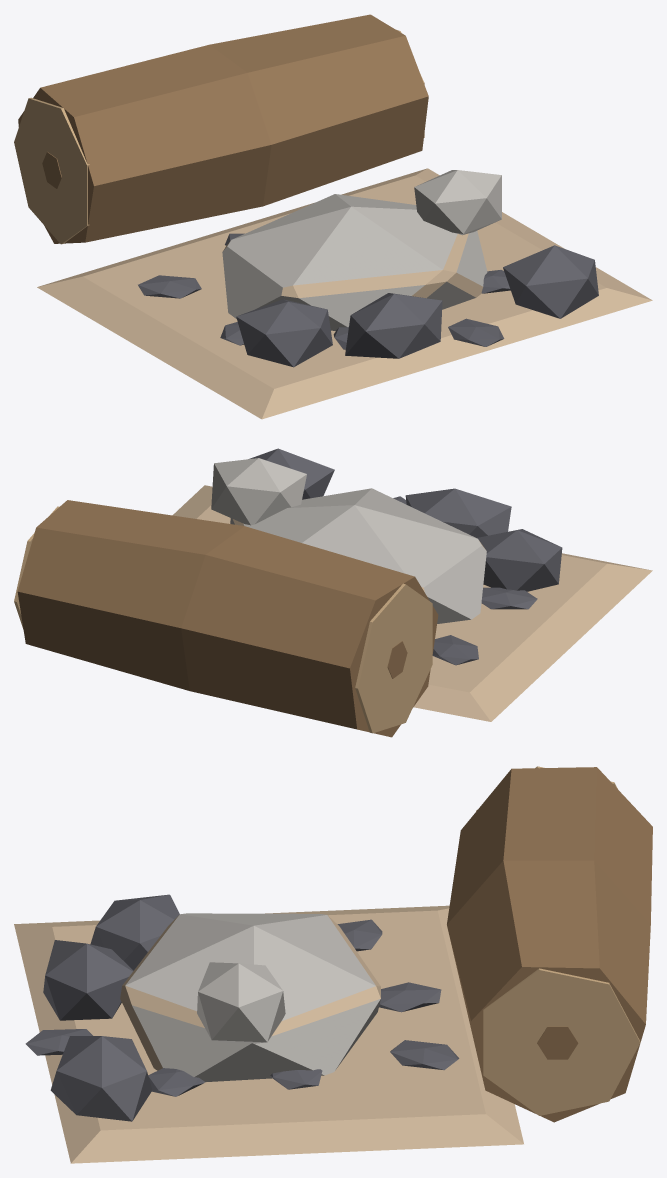
Rendered from knapping_spot.glb.
3 renders of one model, top to bottom at view 1: azimuth 30°, elevation 25°; view 2: azimuth 150°, elevation 25°; view 3: azimuth 270°, elevation 25°, orthographic. The views are drawn at different scales.
Parts seen in each view (by area): view 1: knapping_spot; view 2: knapping_spot; view 3: knapping_spot.
Part boxes in pixels (x1,y1,x2,y2): knapping_spot: (14, 14, 652, 419); knapping_spot: (14, 448, 652, 737); knapping_spot: (14, 766, 652, 1163).
Bounding box in the file's own units: 0.8062 × 0.2542 × 0.8414.
